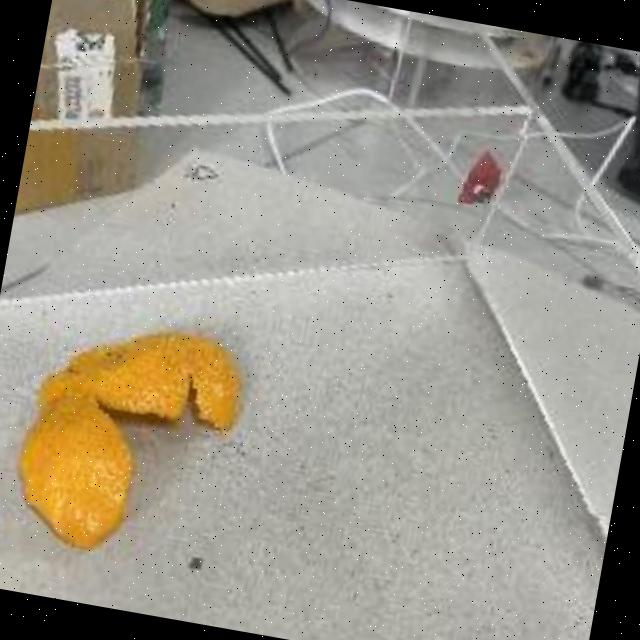orange-peel: (0, 301, 254, 573)
